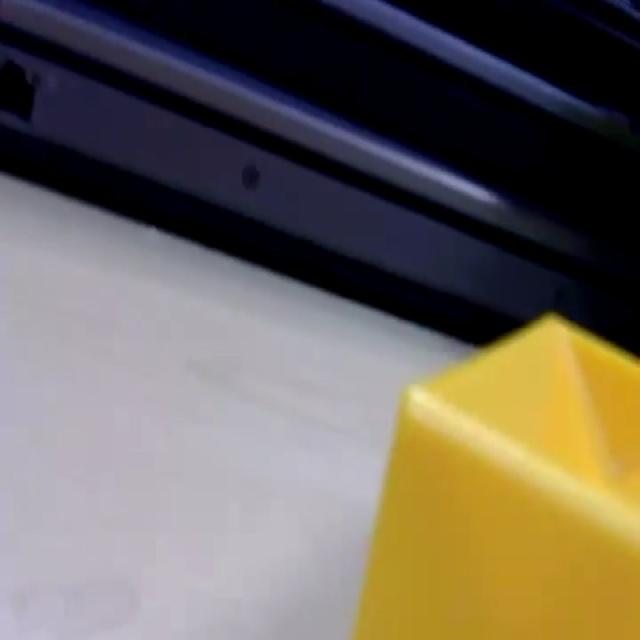yellow_block: (351, 308, 638, 636)
